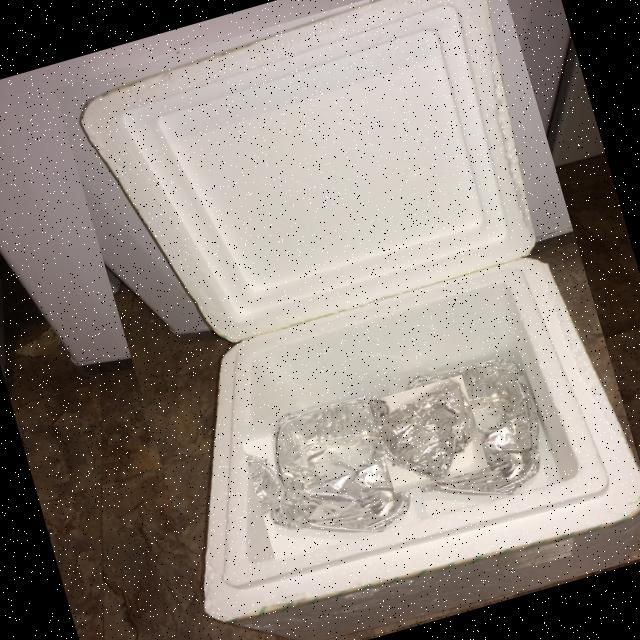Aluminium foil: (263, 395, 411, 532), (379, 377, 475, 480)
Styrofoam piece: (81, 0, 640, 640)
